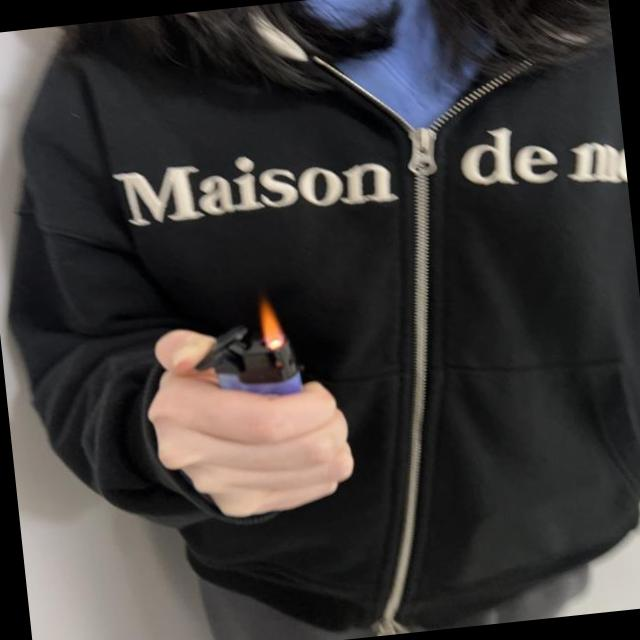Fire: (255, 297, 288, 353)
